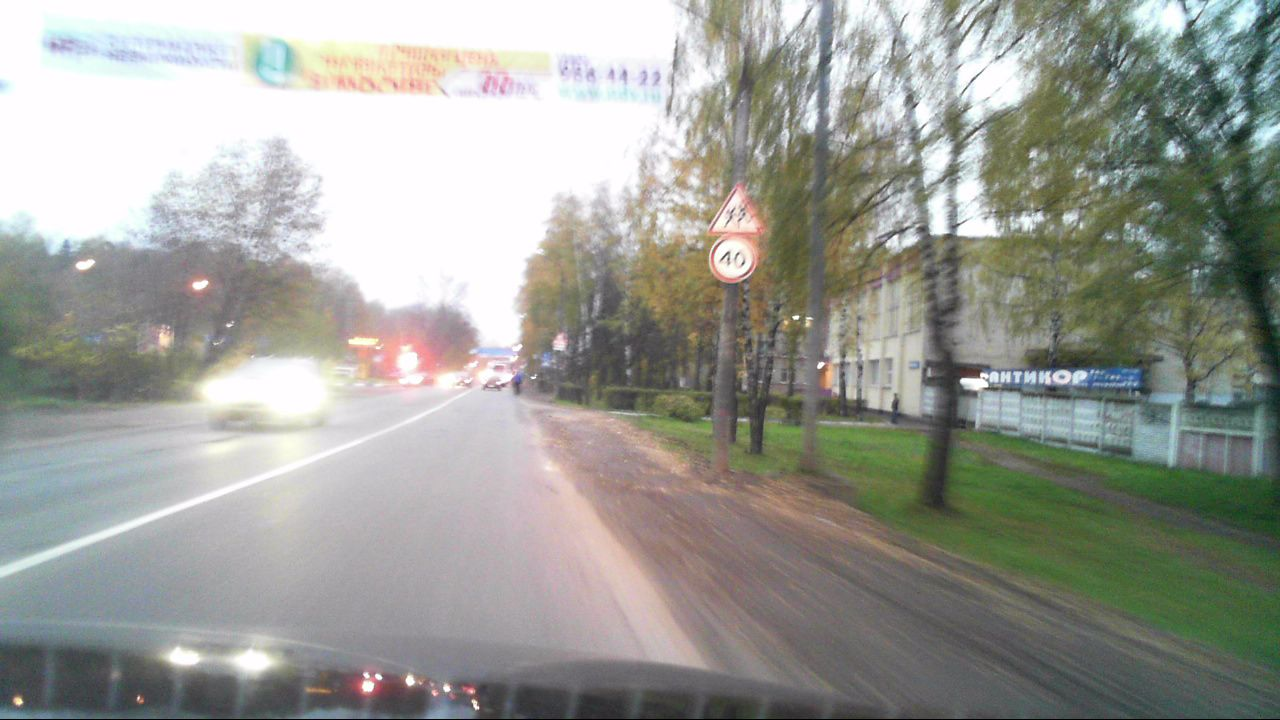speed_warning_40: (709, 236, 756, 283)
